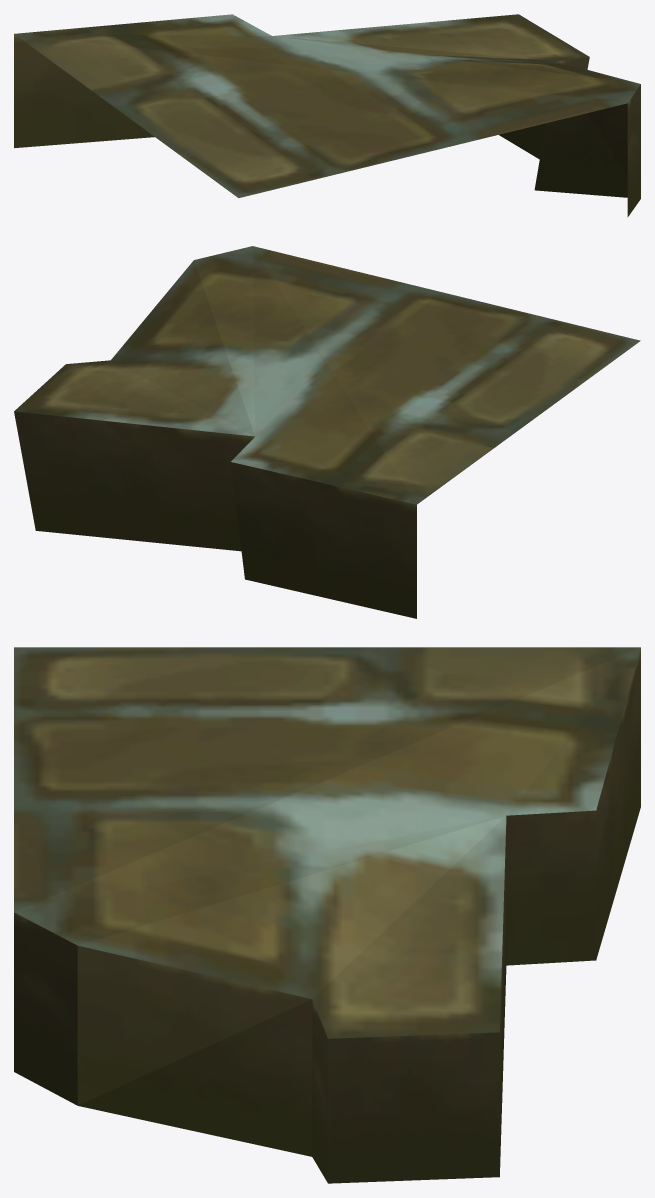
File: tundra_floor_cobble_hole_05.fbx
The picture shows the model from 3 angles, top to bottom: view 1: azimuth 30°, elevation 25°; view 2: azimuth 150°, elevation 25°; view 3: azimuth 270°, elevation 25°; orthographic projection. The views are drawn at different scales.
Parts seen in each view (by area): view 1: obj0.154; view 2: obj0.154; view 3: obj0.154.
Part boxes in pixels (x1,y1,x2,y2): obj0.154: (14,14,640,217); obj0.154: (14,246,640,618); obj0.154: (14,647,640,1183).
Size of the model in its own units: 1.5 by 0.5218 by 1.26.
